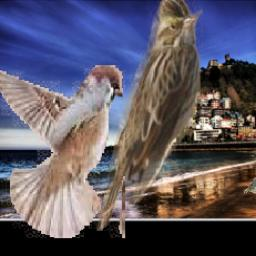Sparrow: (96, 0, 203, 232), (0, 66, 125, 239), (243, 177, 256, 195)
